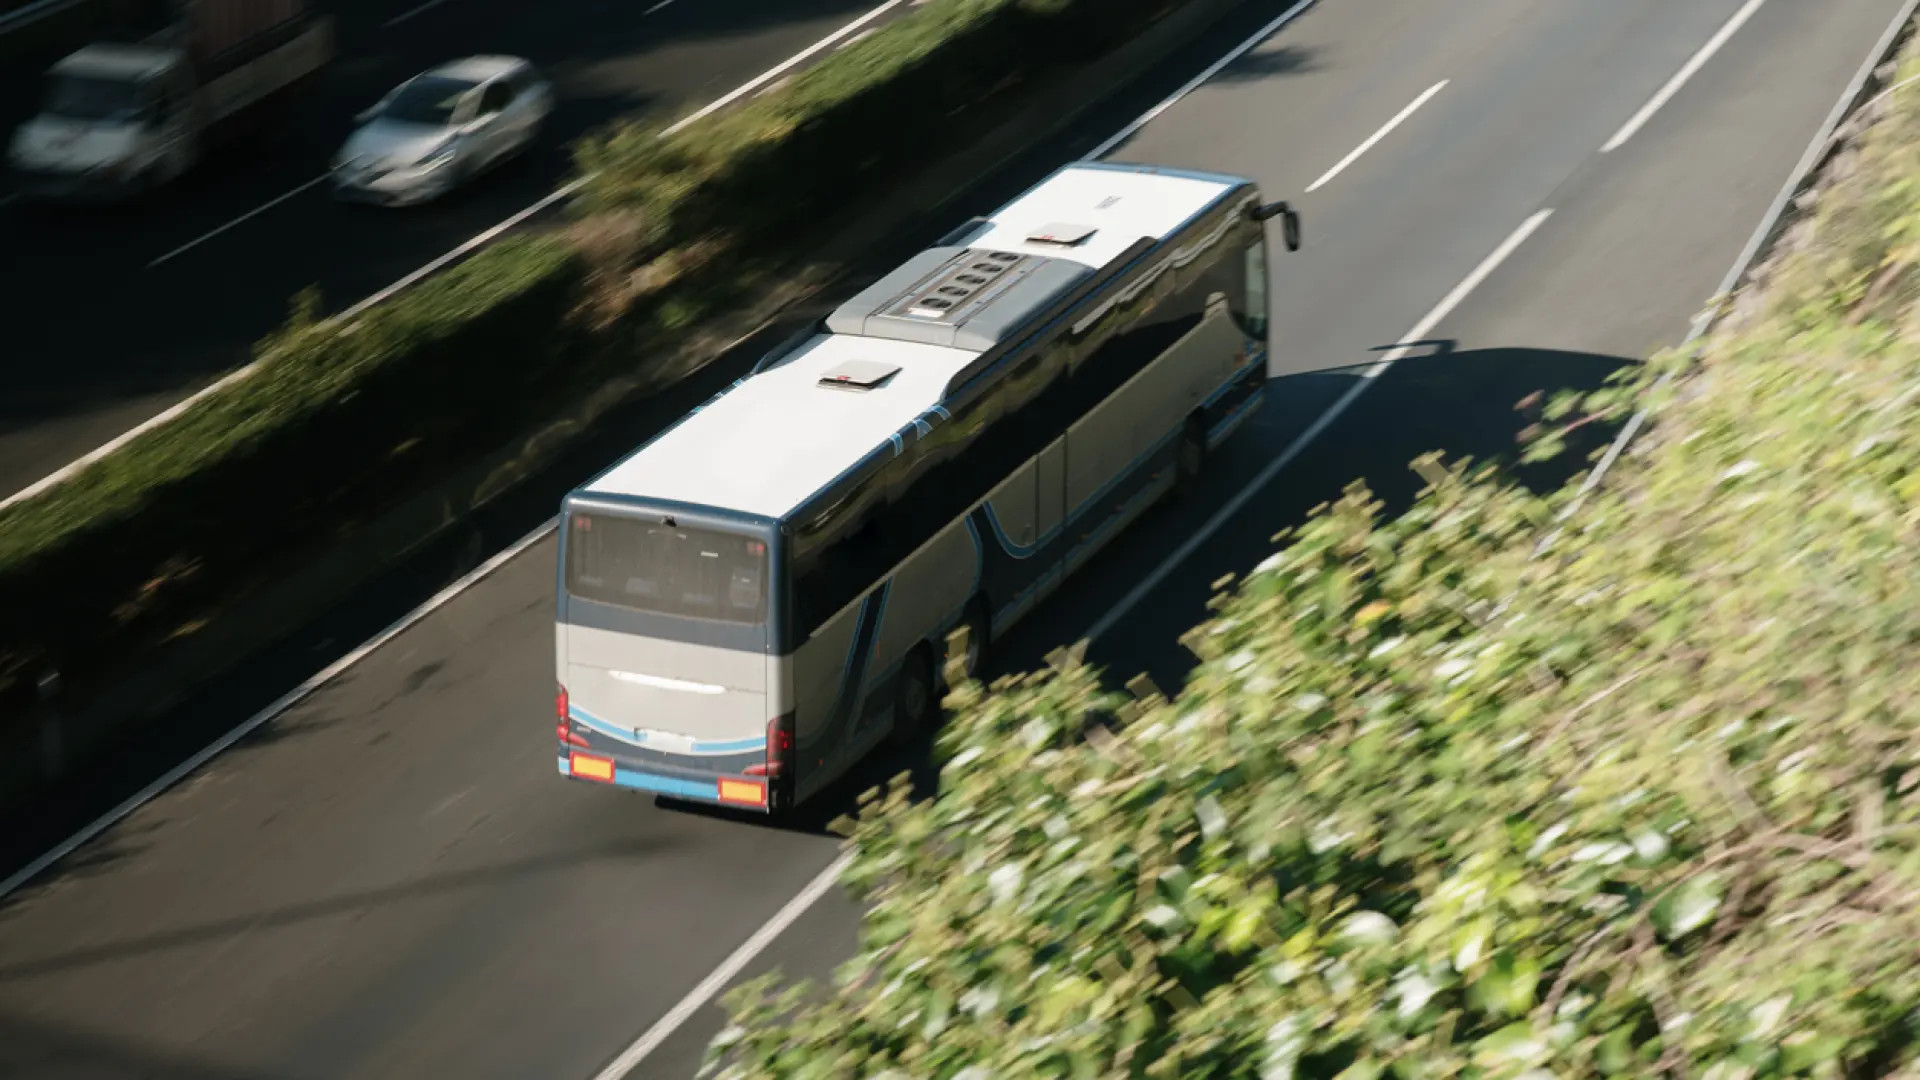autobus: (543, 148, 1308, 824)
